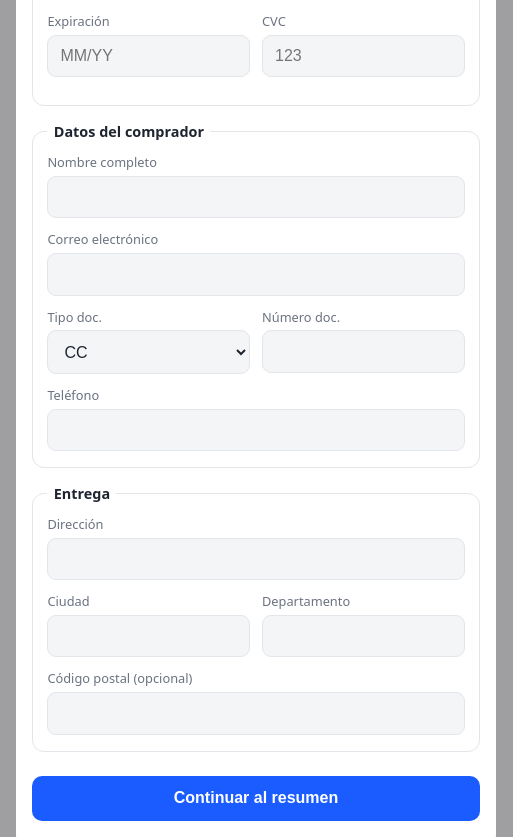
Test: CardModal › muestra errores al enviar un formulario inválido y no navega
(page scrolled)
What coordinates should you click on to do the following:
click the button "Continuar al resumen"
I would click on:
 (256, 798)
Its box is left=32, top=776, right=480, bottom=821.
(page scrolled)
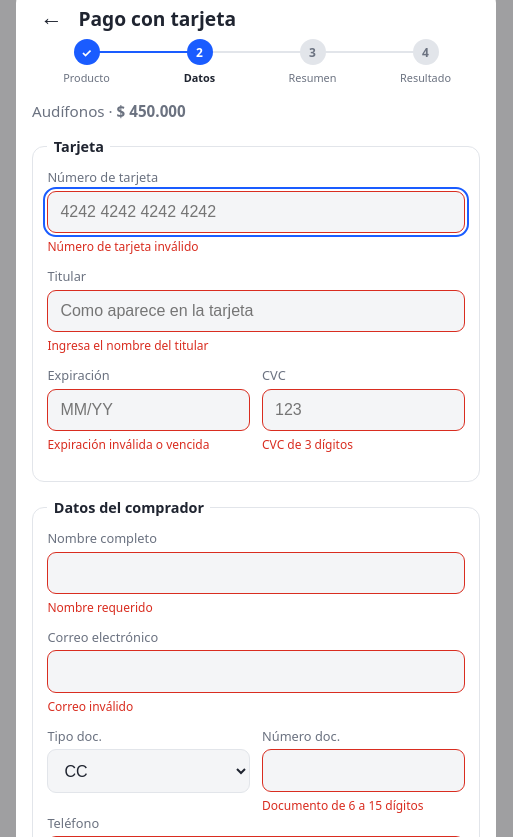
Now the text "Número de tarjeta inválido" is shown, box left=47, top=238, right=198, bottom=255
